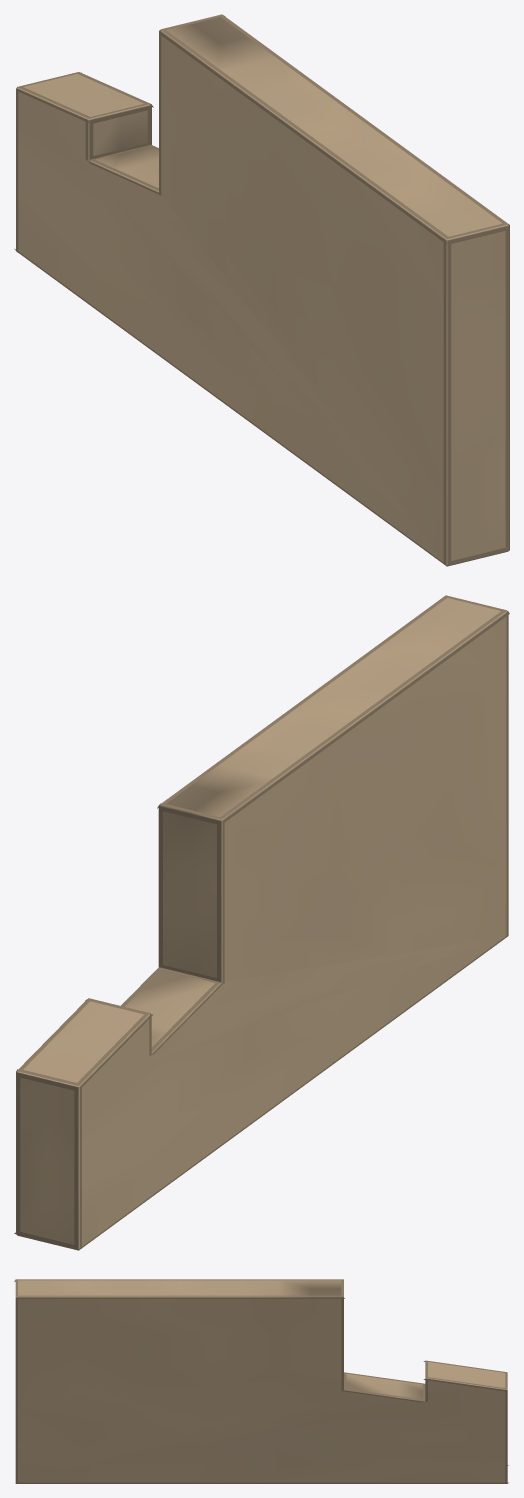
The picture shows the model from 3 angles, top to bottom: view 1: azimuth 30°, elevation 25°; view 2: azimuth 150°, elevation 25°; view 3: azimuth 270°, elevation 25°; orthographic projection. The views are drawn at different scales.
Parts seen in each view (by area): view 1: part-b; view 2: part-b; view 3: part-b.
Part boxes in pixels (x1,y1,x2,y2): part-b: (14,14,509,566); part-b: (14,595,509,1250); part-b: (14,1279,508,1483).
Bounding box in the file's own units: 0.0248 × 0.121 × 0.2904.
